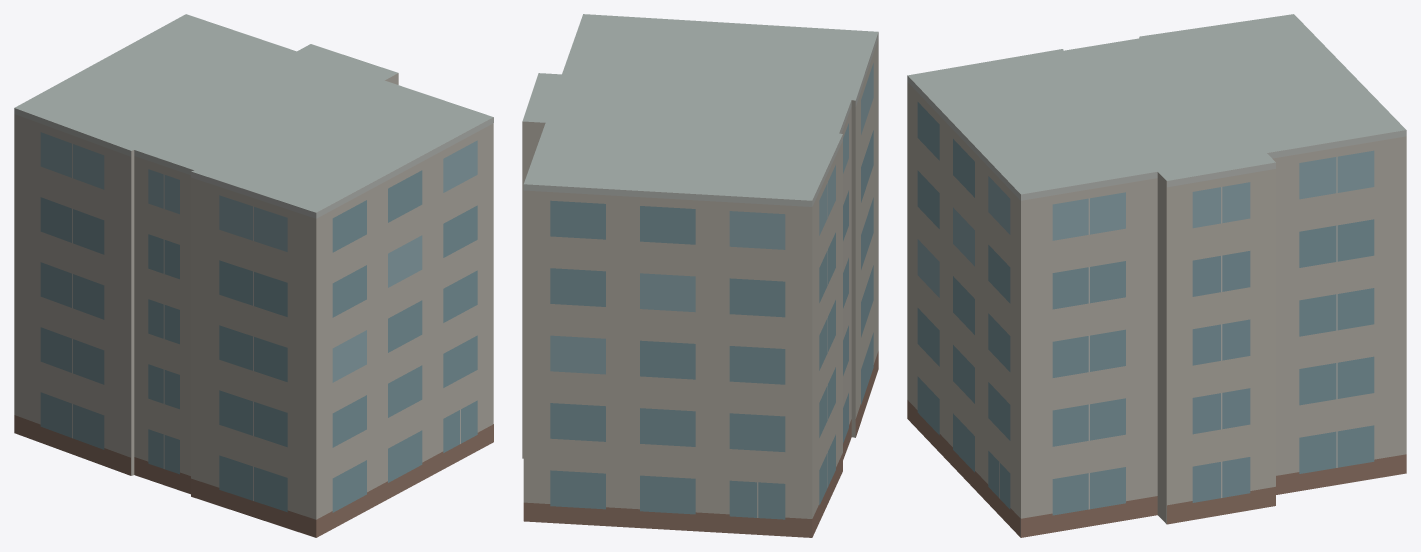
The model's file is survey-upis-32881917.glb.
3 views of the same model, side by side, from view 1: azimuth 30°, elevation 25°; view 2: azimuth 150°, elevation 25°; view 3: azimuth 270°, elevation 25° (orthographic). The views are drawn at different scales.
Visible parts, largest first — view 1: survey-upis-32881917.tmp; view 2: survey-upis-32881917.tmp; view 3: survey-upis-32881917.tmp.
Part boxes in pixels (x1,y1,x2,y2): survey-upis-32881917.tmp: [14, 14, 493, 537]; survey-upis-32881917.tmp: [522, 14, 878, 537]; survey-upis-32881917.tmp: [907, 14, 1406, 537].
Bounding box in the file's own units: 14.89 × 13.2 × 17.4.
